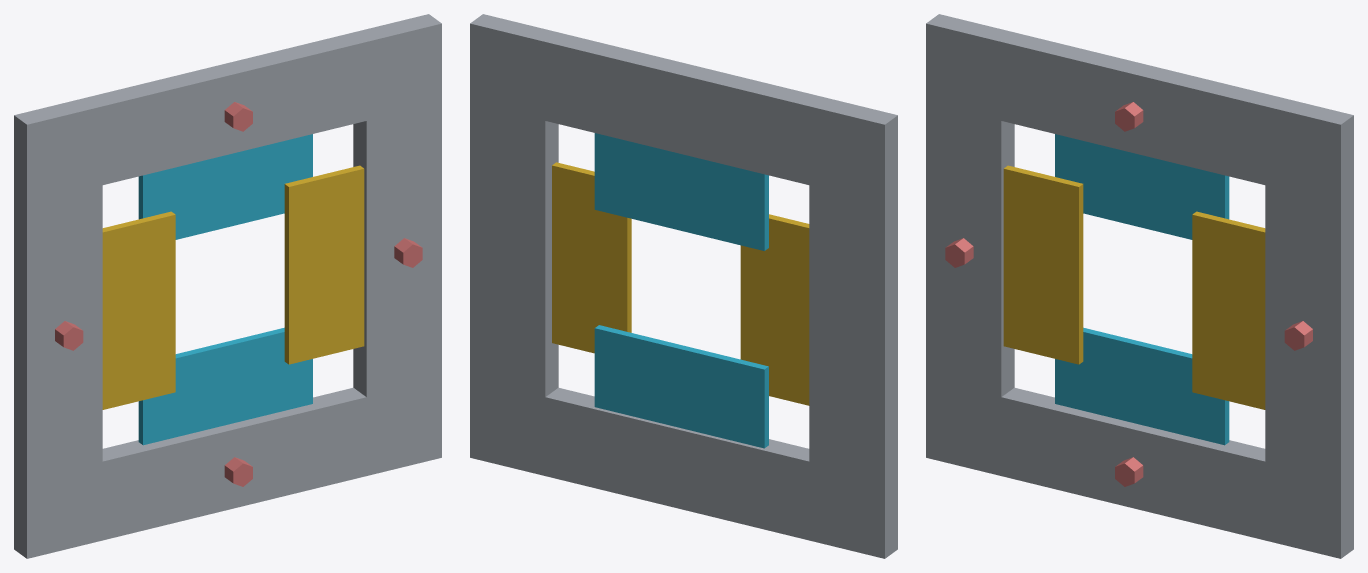
3 views of the same model, side by side, from view 1: azimuth 30°, elevation 25°; view 2: azimuth 150°, elevation 25°; view 3: azimuth 330°, elevation 25° (orthographic).
Visible parts, largest first — view 1: PART-FAB-DIE-GATE-4WAY; view 2: PART-FAB-DIE-GATE-4WAY; view 3: PART-FAB-DIE-GATE-4WAY.
Boxes of the visible parts, x1,y1,x2,y2 form: PART-FAB-DIE-GATE-4WAY: (14, 14, 441, 558); PART-FAB-DIE-GATE-4WAY: (470, 14, 897, 558); PART-FAB-DIE-GATE-4WAY: (926, 14, 1353, 558).
Size of the model in its own units: 220 by 220 by 20.
